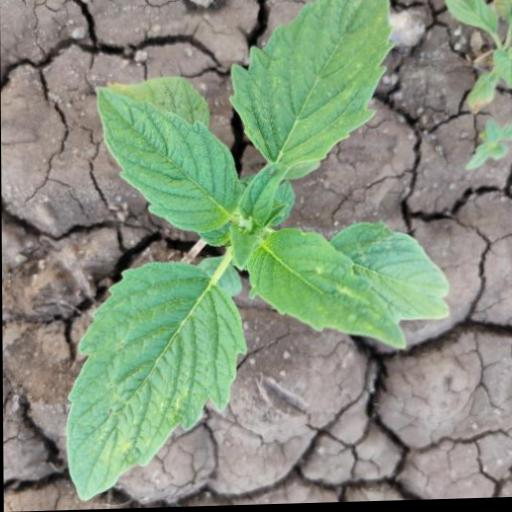crop: (14, 6, 459, 476)
